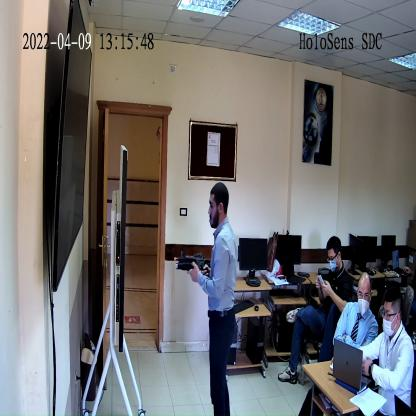handgun: (177, 250, 213, 277)
